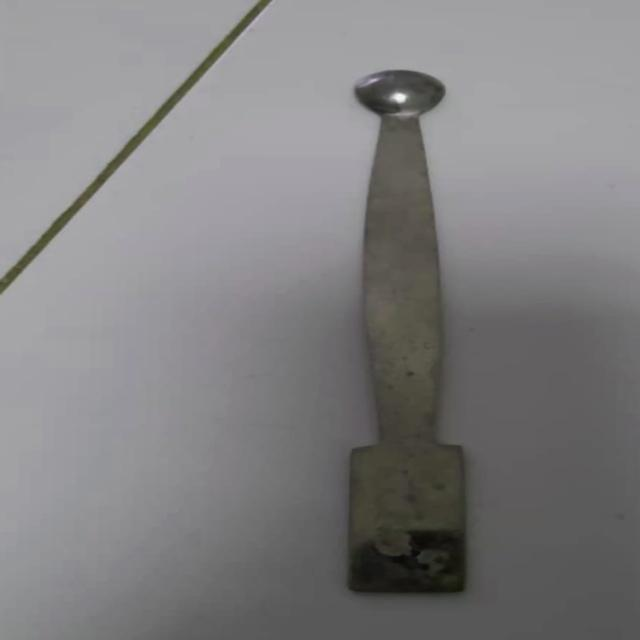Spatula: (319, 63, 490, 607)
